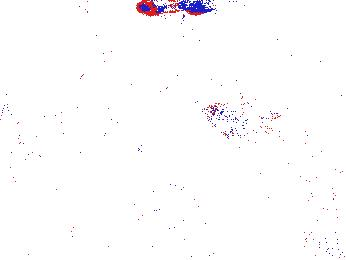X-ray fish: (200, 87, 275, 132)
redtail glassfish: (132, 1, 205, 19)
